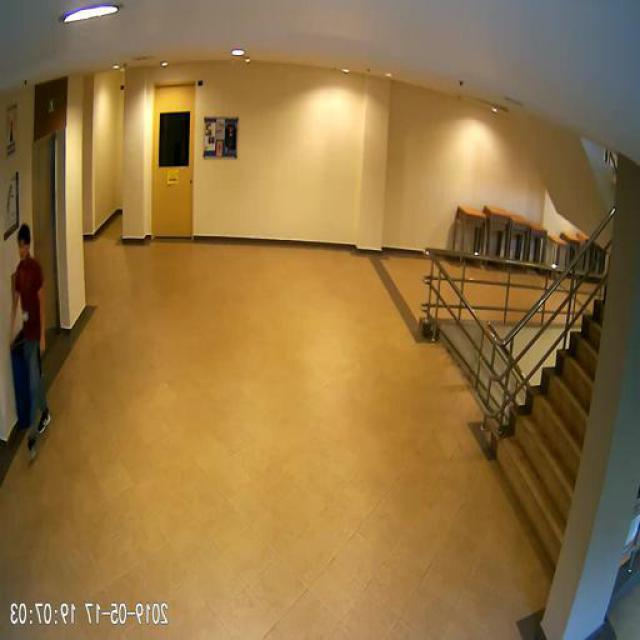Gun: (38, 340, 48, 374)
